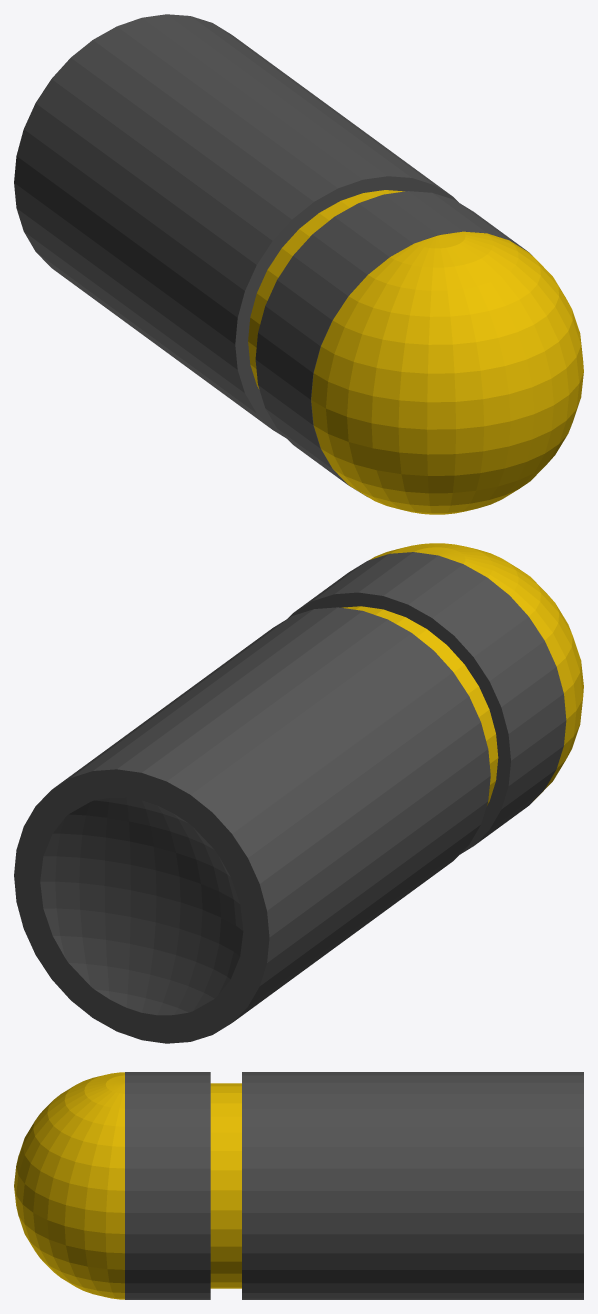
File: DWgrenade.fbx
3 views of the same model, one above another, from view 1: azimuth 30°, elevation 25°; view 2: azimuth 150°, elevation 25°; view 3: azimuth 270°, elevation 25° (orthographic). The views are drawn at different scales.
Parts seen in each view (by area): view 1: Cylinder, Cylinder.002; view 2: Cylinder, Cylinder.002; view 3: Cylinder, Cylinder.002.
Part boxes in pixels (bbox=[...]): Cylinder: bbox=[14, 14, 532, 496]; Cylinder.002: bbox=[248, 190, 583, 514]; Cylinder: bbox=[14, 552, 566, 1043]; Cylinder.002: bbox=[342, 543, 583, 805]; Cylinder: bbox=[125, 1072, 583, 1299]; Cylinder.002: bbox=[14, 1072, 241, 1299].
Size of the model in its own units: 20 by 20 by 50.
